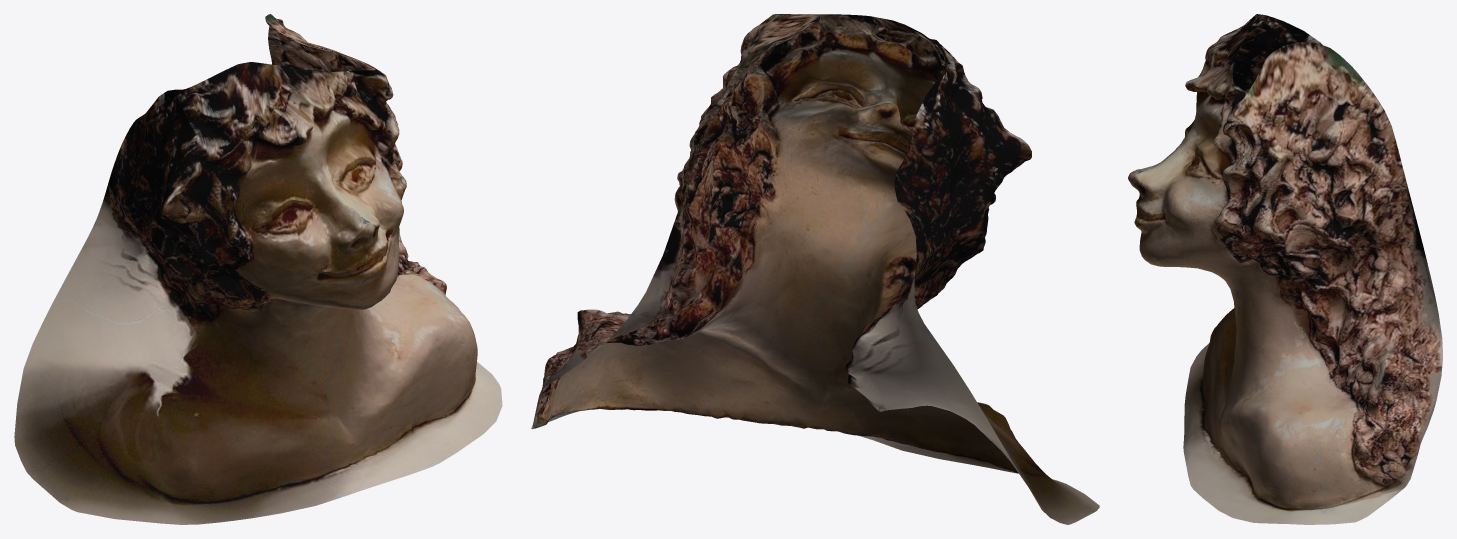
File: koppie.glb
3 renders of one model, left to right at view 1: azimuth 30°, elevation 25°; view 2: azimuth 150°, elevation 25°; view 3: azimuth 270°, elevation 25°, orthographic. The views are drawn at different scales.
Parts seen in each view (by area): view 1: koppie; view 2: koppie; view 3: koppie.
Part boxes in pixels (x1,y1,x2,y2): koppie: (14, 14, 502, 524); koppie: (531, 14, 1099, 524); koppie: (1128, 14, 1442, 524).
Bounding box in the file's own units: 14.89 × 13.18 × 9.31.
1 material, 1 textured.
